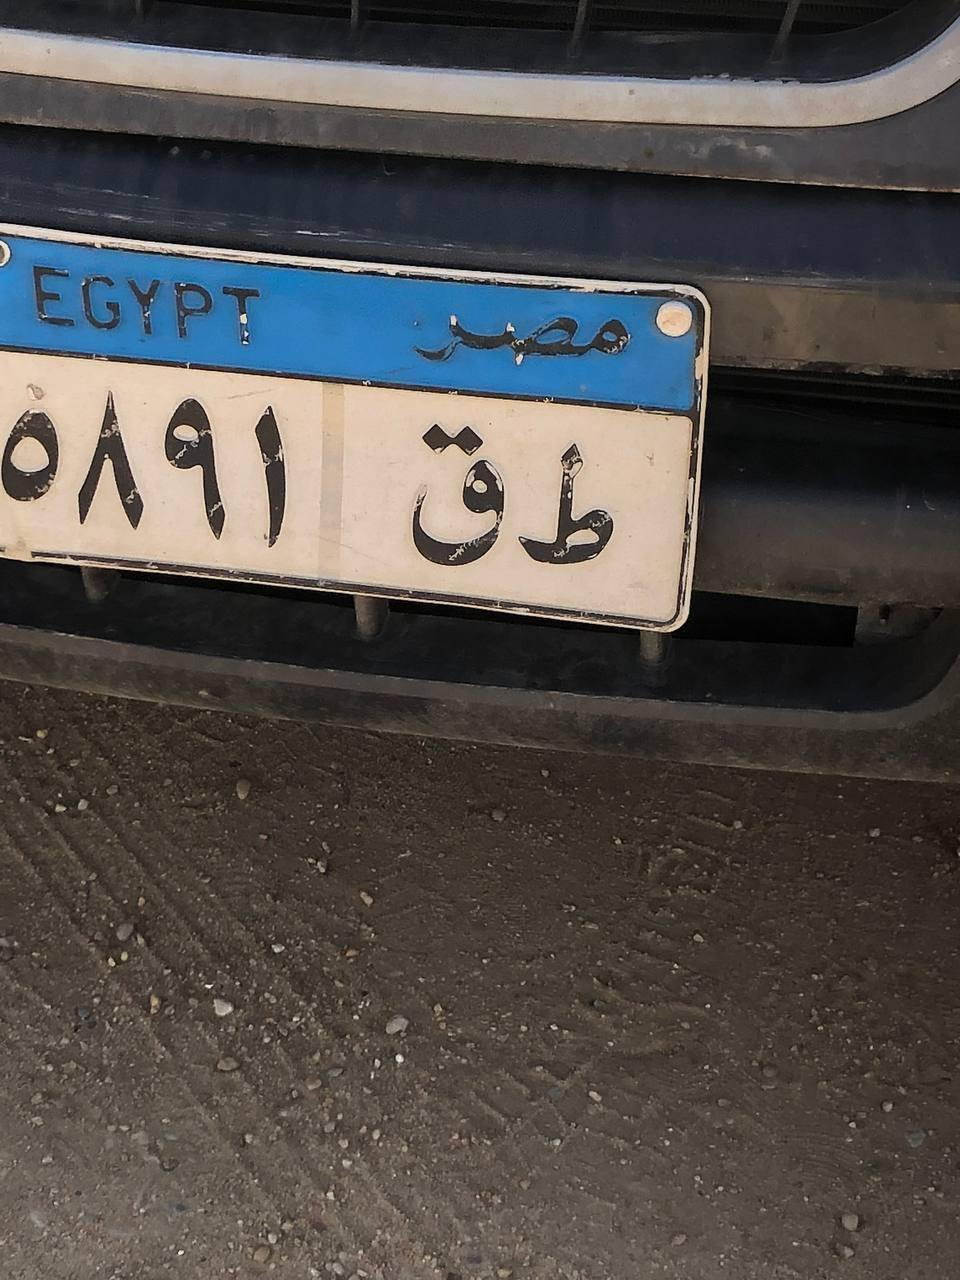1: (250, 406, 306, 563)
5: (8, 388, 55, 498)
8: (73, 358, 147, 540)
9: (158, 386, 241, 536)
License Plate: (1, 219, 714, 637)
Q: (413, 400, 513, 582)
Taa: (526, 304, 630, 586)
